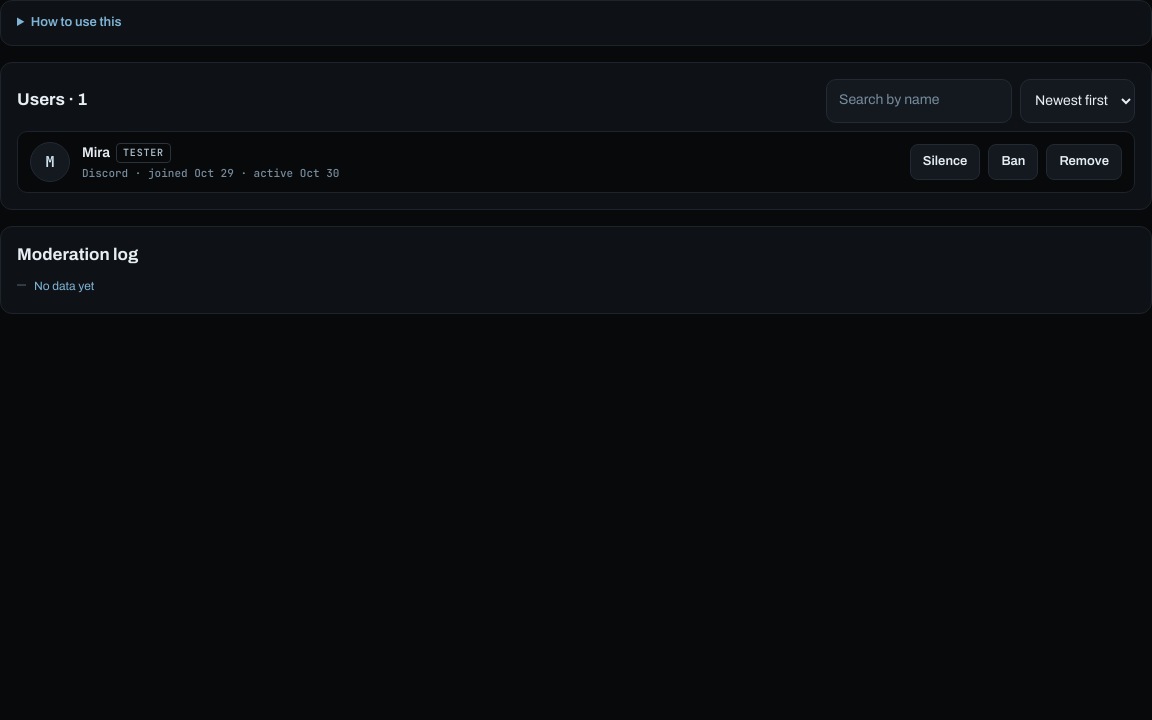
Scenario: Owner console → Users (T60b) › asks once more, with a duration and an optional reason, before acting
Click the button with aria-label "Ban: Mira": (1013, 162) x1=988 y1=144 x2=1038 y2=180
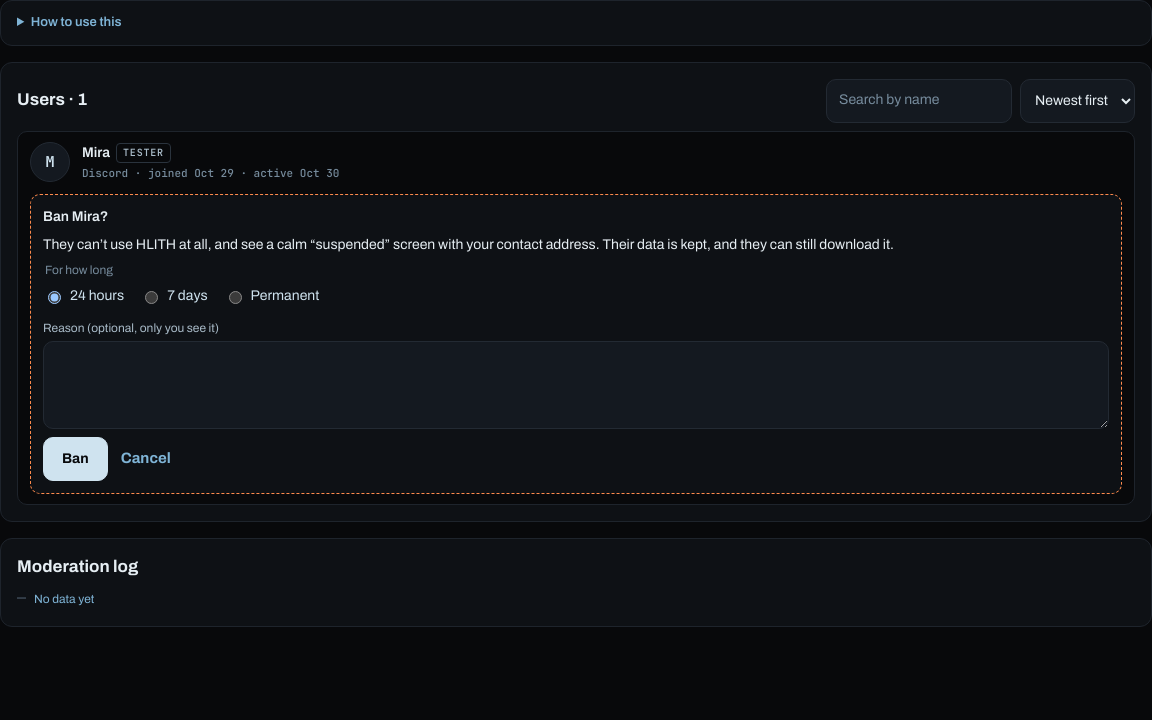
Click the radio button labelled "7 days": (152, 297) x1=145 y1=291 x2=158 y2=304
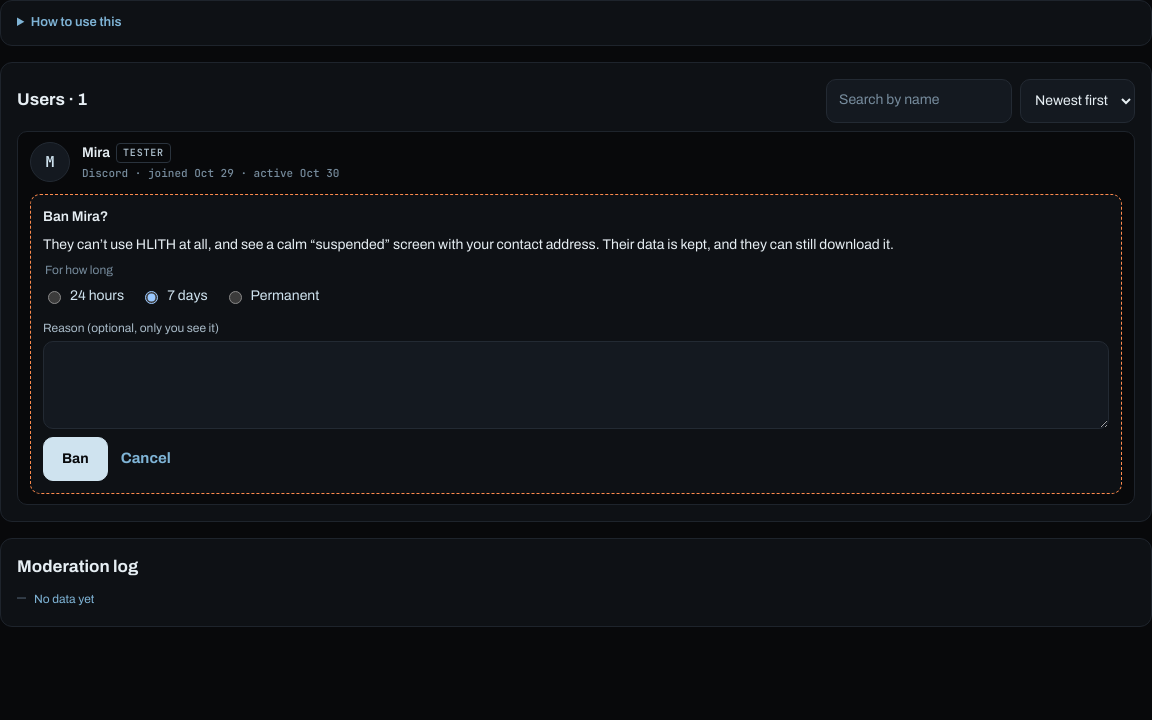
In the text box labelled "Reason (optional, only you see it)": (576, 385) x1=43 y1=341 x2=1109 y2=429, type " spam links "
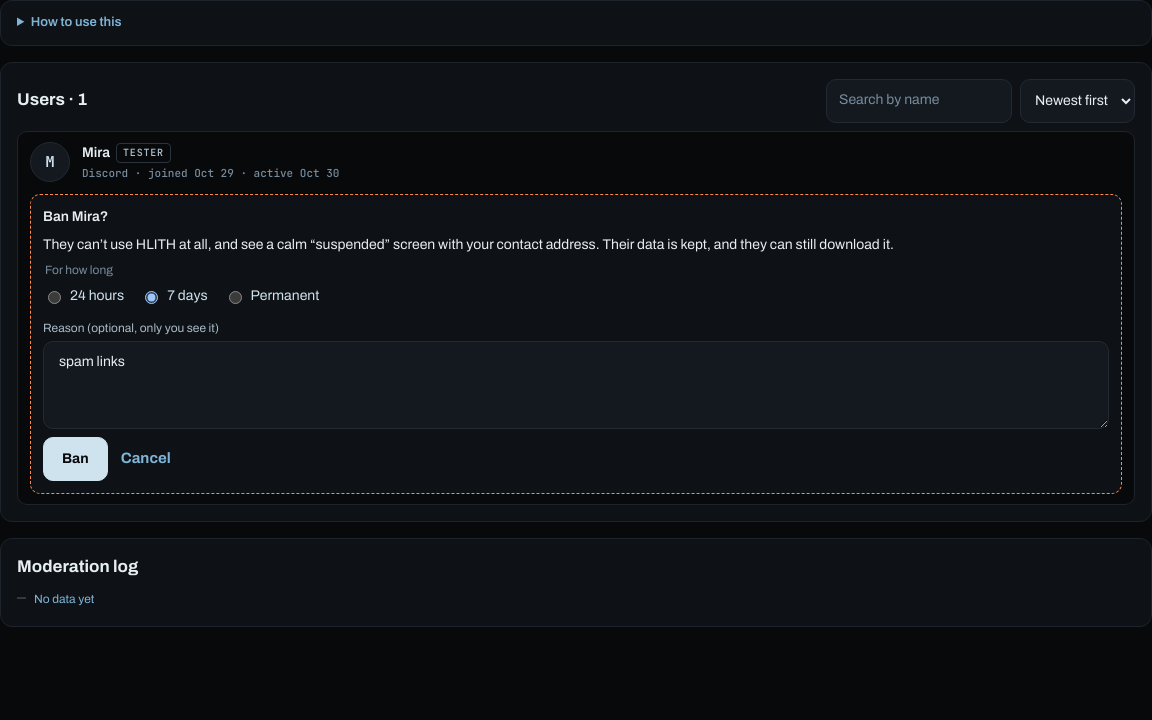
Click the button "Ban": (75, 459) x1=43 y1=437 x2=108 y2=481
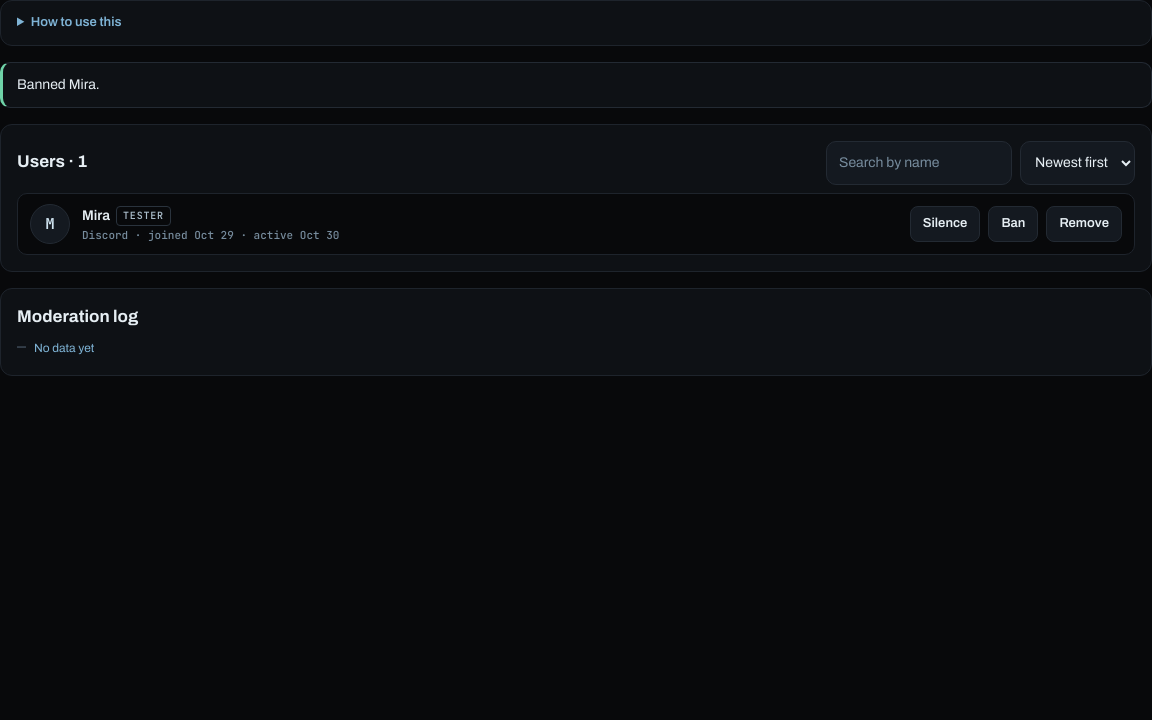
expect the text "Banned Mira." is shown: met, box x1=0 y1=62 x2=1151 y2=108
